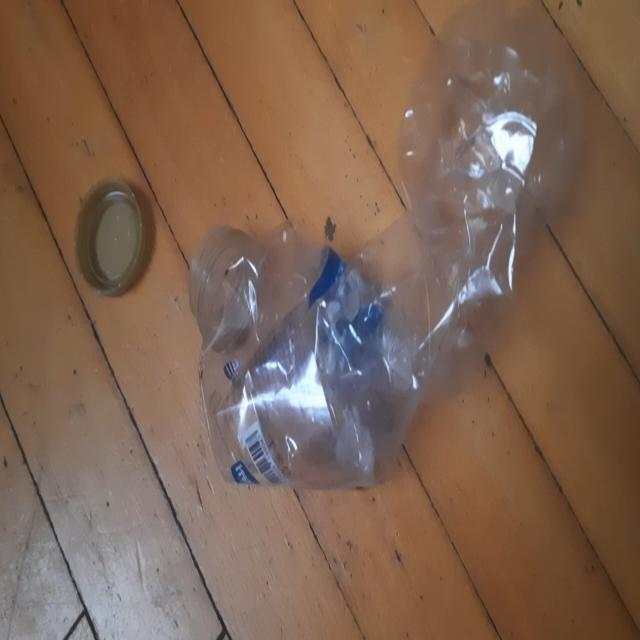Plastic: (193, 33, 539, 490)
